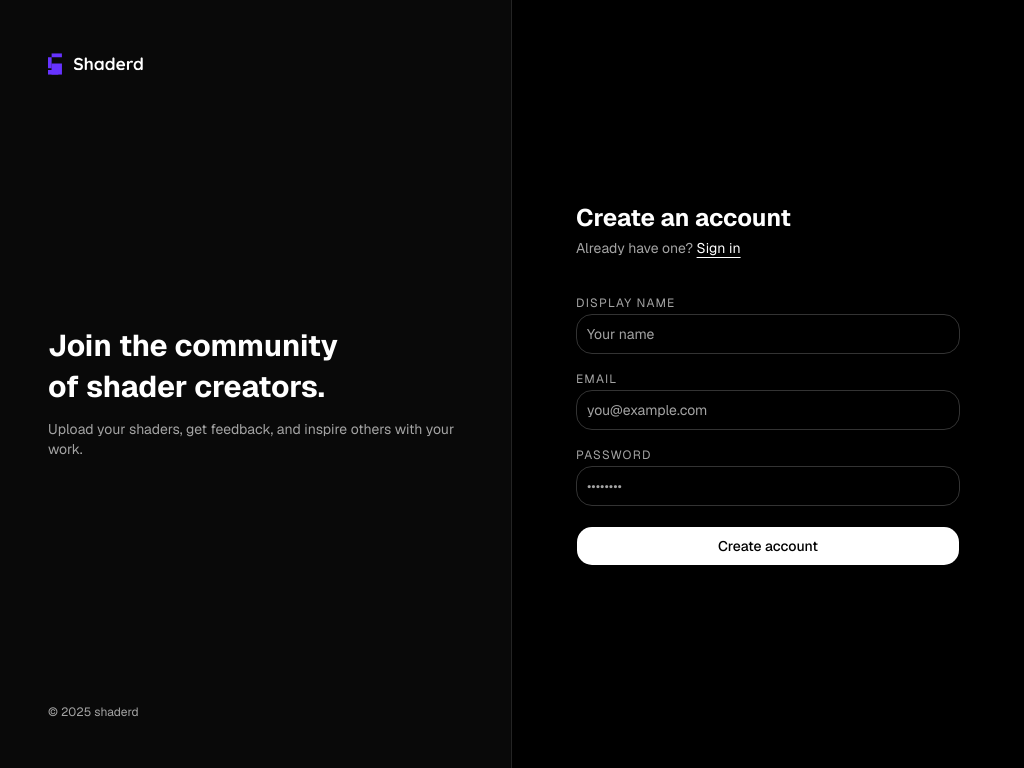
Test: register page › shows a password strength meter while typing
Type "weak" into the password field with placeholder "••••••••" at (768, 486), box [576,466,960,506]
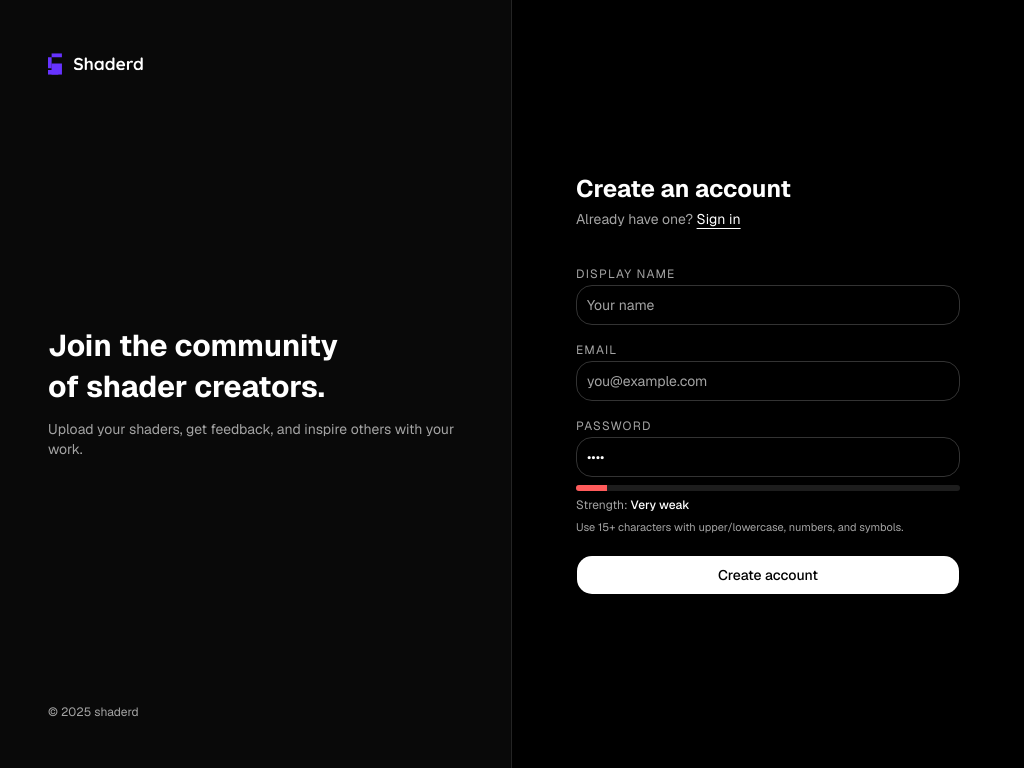
Result: the text "Strength: Very weak" is shown at [576,497,690,513]
Result: the text "Very weak" is shown at [630,497,690,513]
Type "VeryStrongPassword#123" into the password field with placeholder "••••••••" at (768, 457), box [576,437,960,477]
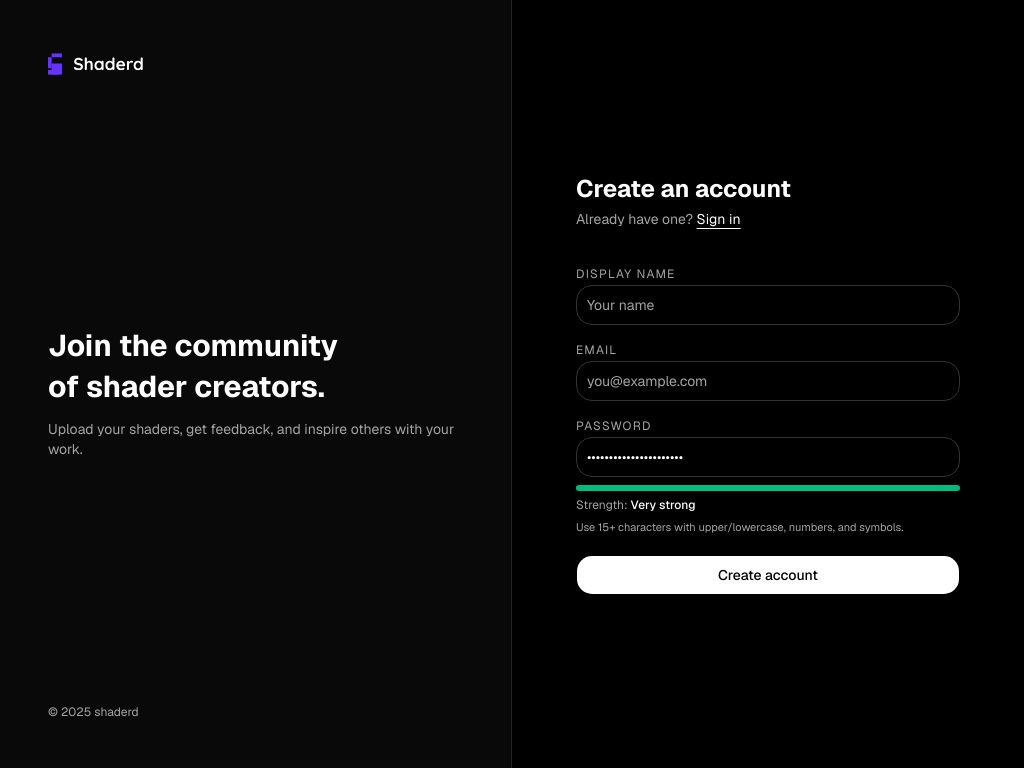
Result: the text "Very strong" is shown at [630,497,696,513]
